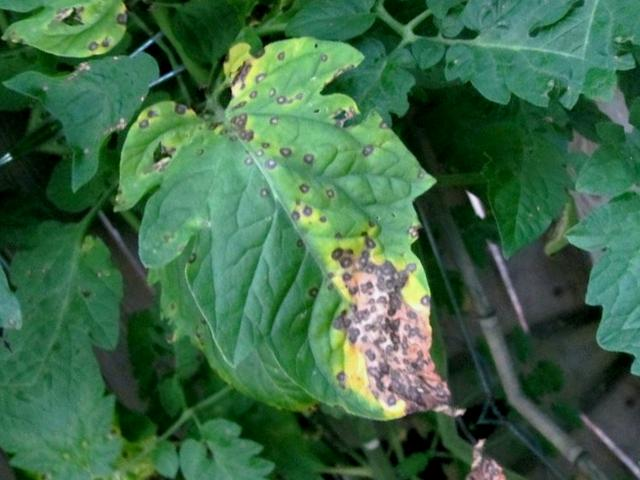Tomato Septoria leaf spot: (80, 0, 566, 480)
